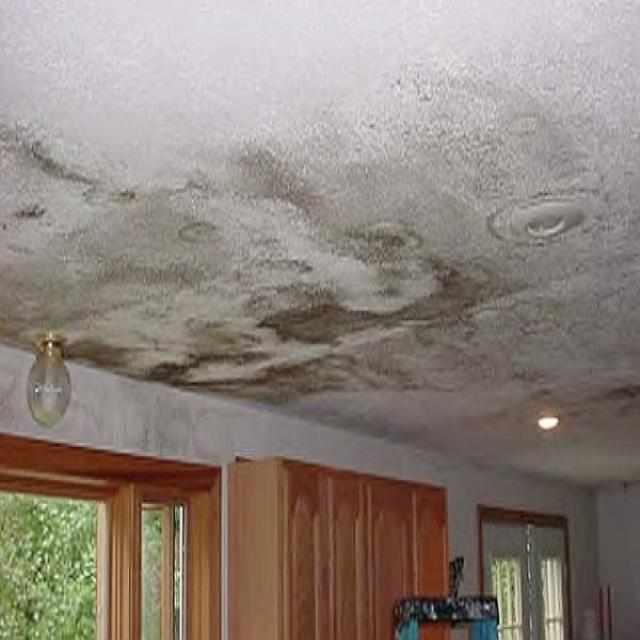Water_Leakage: (0, 54, 640, 480)
